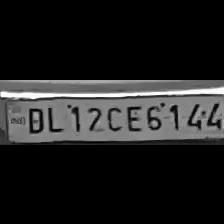1: (63, 100, 83, 132), (164, 100, 182, 130)
2: (83, 101, 103, 131)
4: (182, 98, 204, 130), (202, 96, 222, 130)
6: (144, 100, 164, 130)
C: (104, 101, 122, 131)
D: (23, 102, 45, 134)
E: (123, 101, 143, 131)
L: (44, 102, 64, 132)
